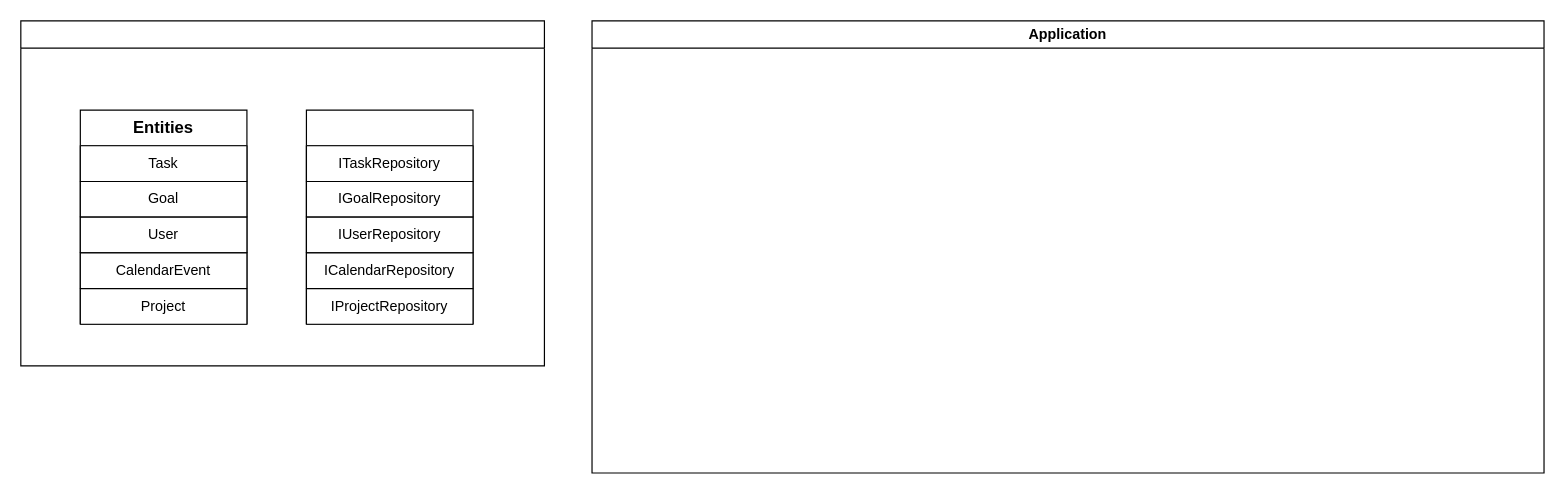
Some shapes in this 1565 by 494 pixel diagram are drawn without their labels. Each missing label, with the box of its shape:
Domain: (20, 20, 544, 366)
Interfaces: (305, 109, 473, 324)
